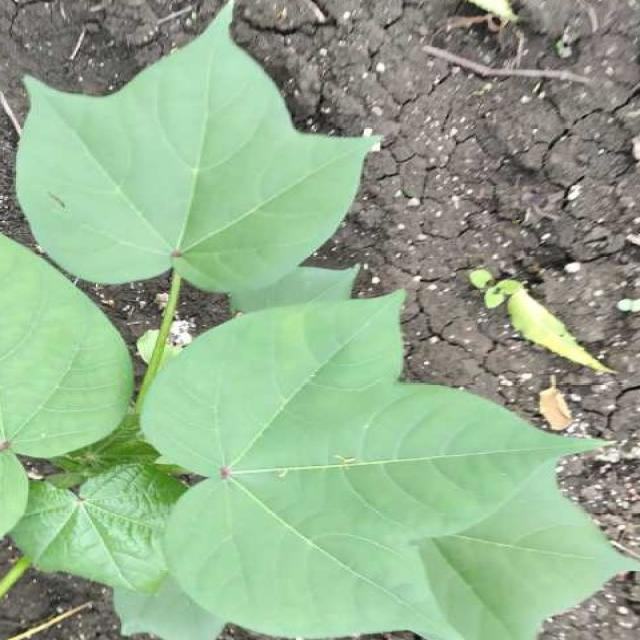Healthy Leaf: (61, 158, 407, 628)
